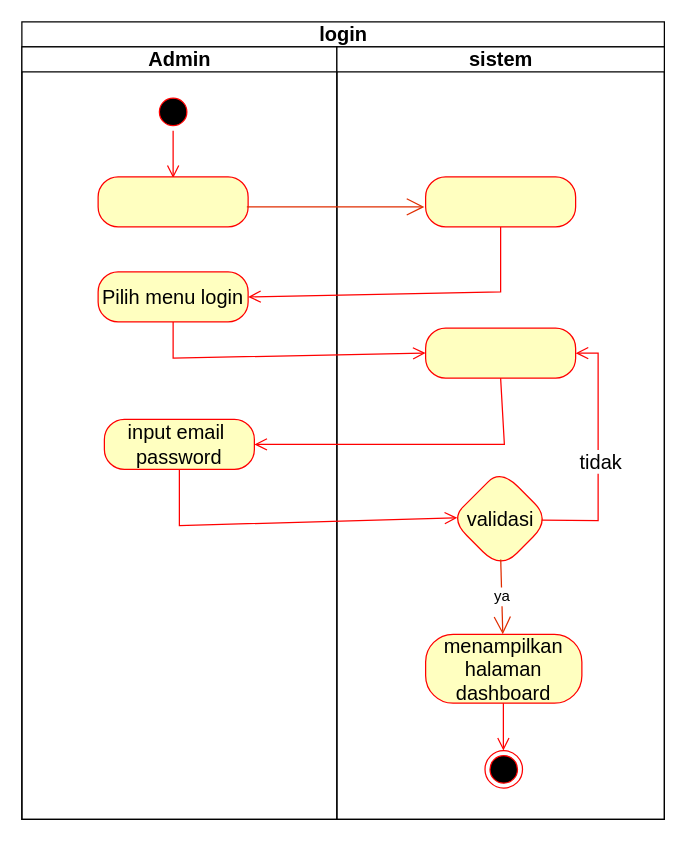
The diagram is 686 pixels wide and 841 high, and some of its shapes have lost their labels. Each missing label, with the centre of its shape:
Buka Aplikasi: [172,201]
Menampilkan Halaman home: [500,201]
Menampilkan Halaman login: [500,352]
